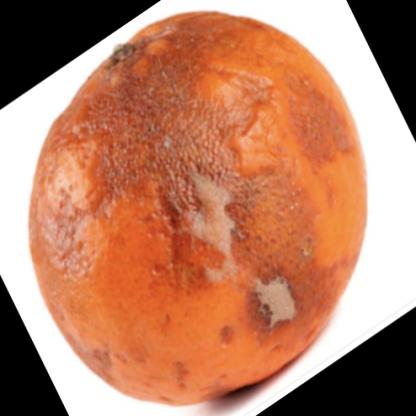rotten_orange: (22, 3, 377, 403)
